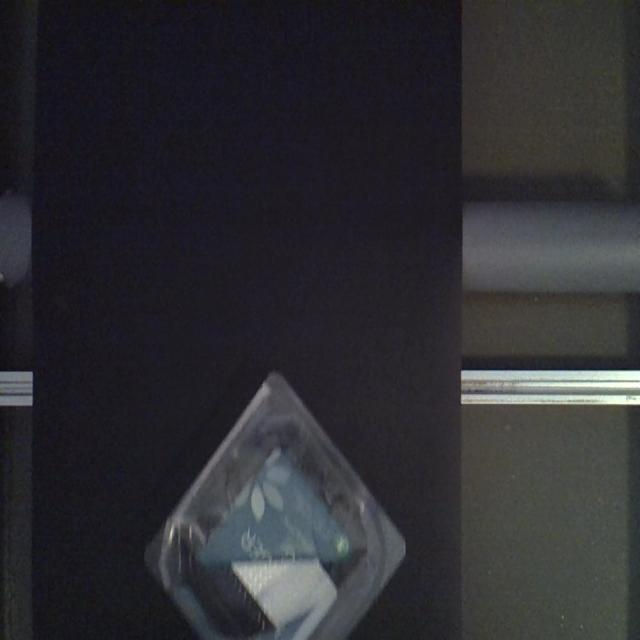mixed-plastics: (142, 366, 408, 637)
